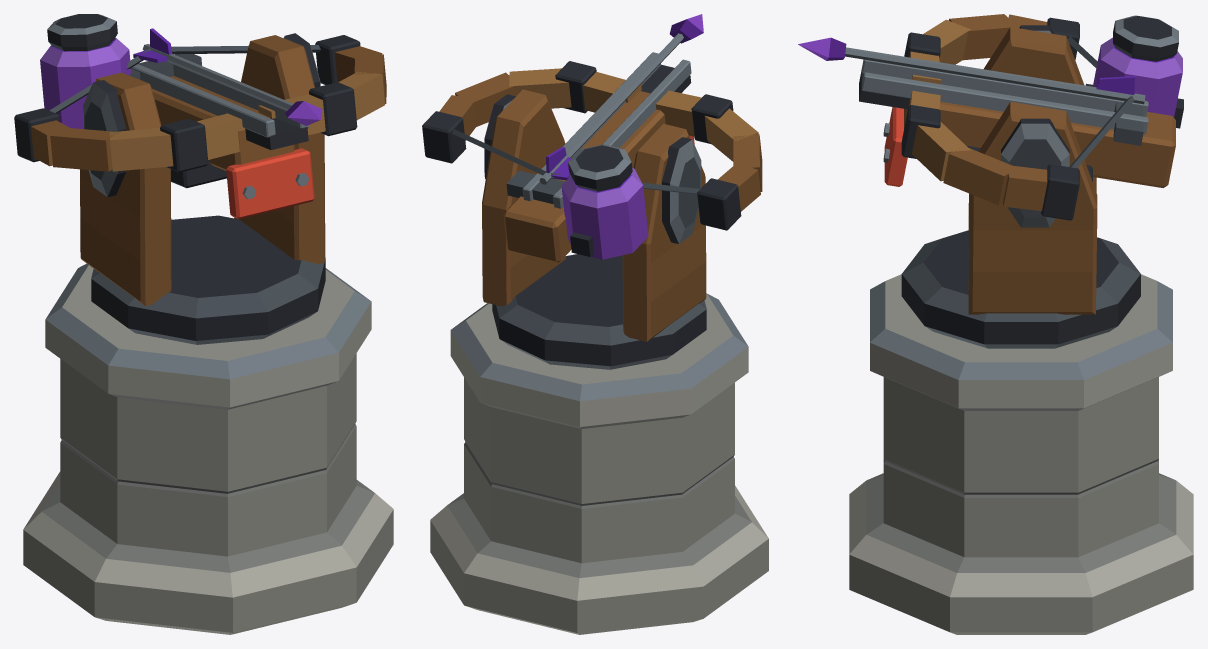
The model's file is lv1_acide.glb.
The picture shows the model from 3 angles, left to right: view 1: azimuth 30°, elevation 25°; view 2: azimuth 150°, elevation 25°; view 3: azimuth 270°, elevation 25°; orthographic projection. The views are drawn at different scales.
Visible parts, largest first — view 1: Base, Turret_Yaw, Barrel_Recoil, Team_Panels; view 2: Base, Turret_Yaw, Barrel_Recoil; view 3: Base, Barrel_Recoil, Turret_Yaw, Team_Panels.
Part boxes in pixels (x1,y1,x2,y2): Base: (23, 263, 393, 634); Turret_Yaw: (80, 33, 325, 344); Barrel_Recoil: (14, 14, 386, 199); Team_Panels: (226, 148, 314, 219); Base: (430, 293, 768, 634); Turret_Yaw: (482, 89, 706, 369); Barrel_Recoil: (422, 14, 762, 262); Base: (849, 274, 1193, 634); Barrel_Recoil: (798, 14, 1183, 220); Turret_Yaw: (901, 25, 1140, 348); Team_Panels: (884, 107, 907, 186).
Size of the model in its own units: 1.45 by 2.2 by 1.48.
